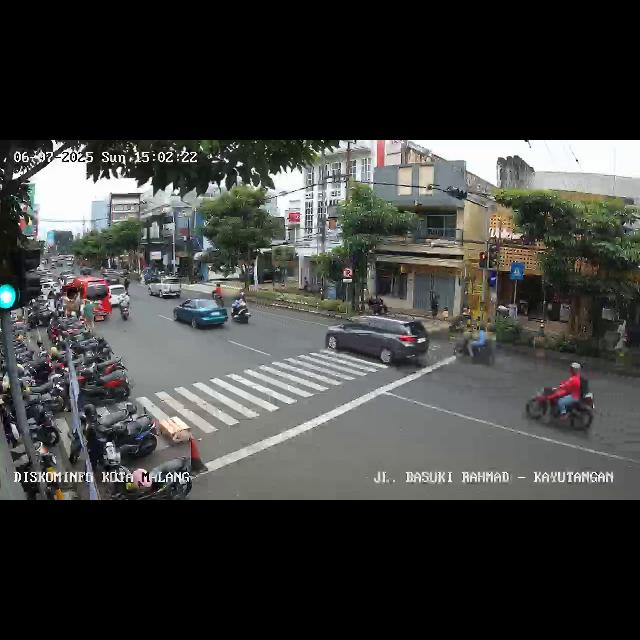car: (325, 313, 431, 373), (61, 276, 110, 326), (172, 297, 230, 335), (146, 278, 182, 300), (214, 277, 246, 301)
motorcycle: (528, 366, 598, 436), (455, 324, 501, 368), (232, 292, 250, 324), (118, 292, 132, 324), (213, 284, 225, 304)
